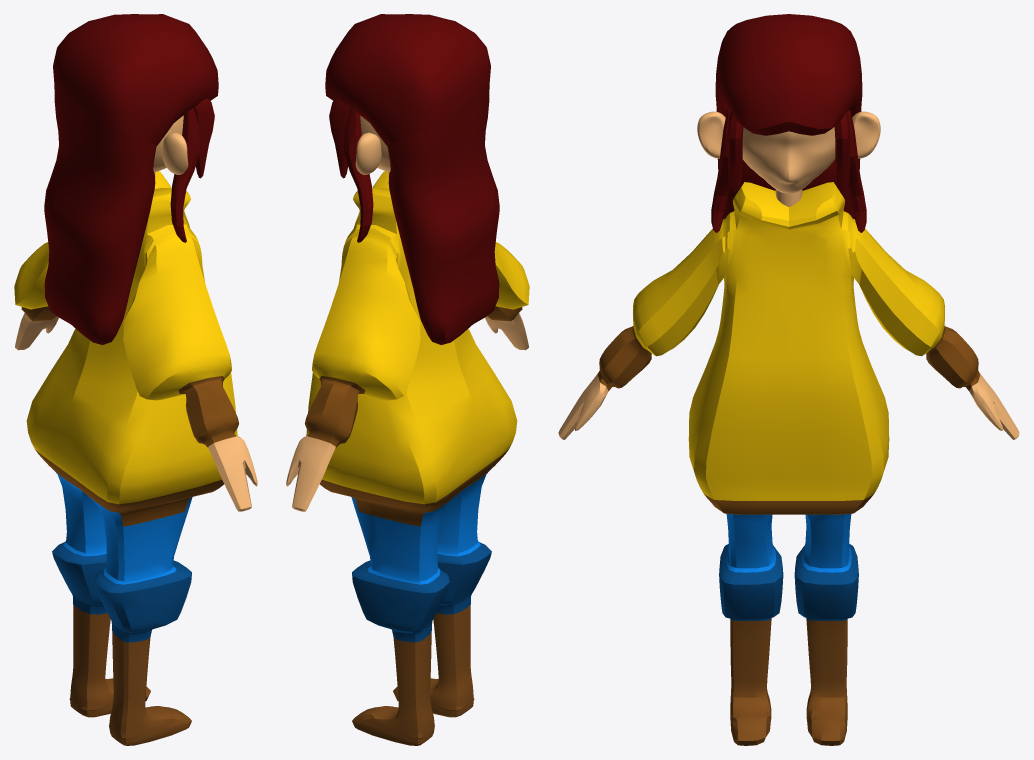
Rendered from character1.glb.
3 renders of one model, left to right at view 1: azimuth 30°, elevation 25°; view 2: azimuth 150°, elevation 25°; view 3: azimuth 270°, elevation 25°, orthographic.
Parts seen in each view (by area): view 1: Plane; view 2: Plane; view 3: Plane.
Boxes of the visible parts, left/top/right/bottom form: Plane: left=14, top=14, right=257, bottom=745; Plane: left=286, top=14, right=529, bottom=745; Plane: left=558, top=14, right=1019, bottom=745.
Bounding box in the file's own units: 0.7125 × 3.28 × 1.92.
